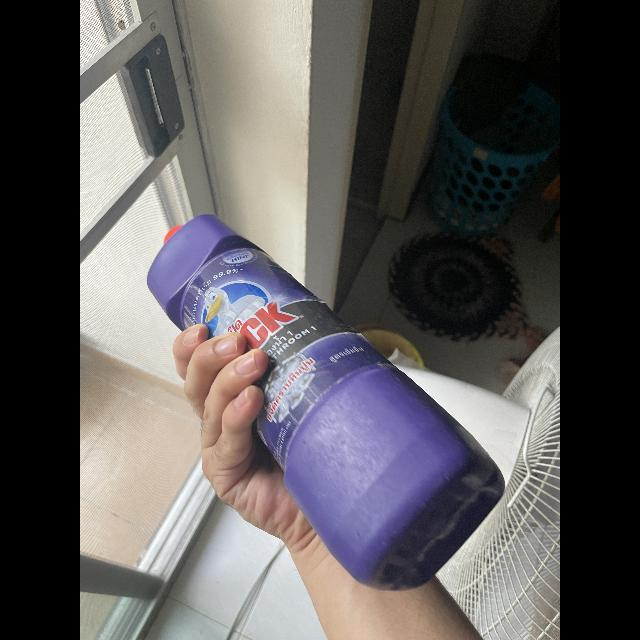chemical_plastic_bottle: (144, 212, 508, 592)
